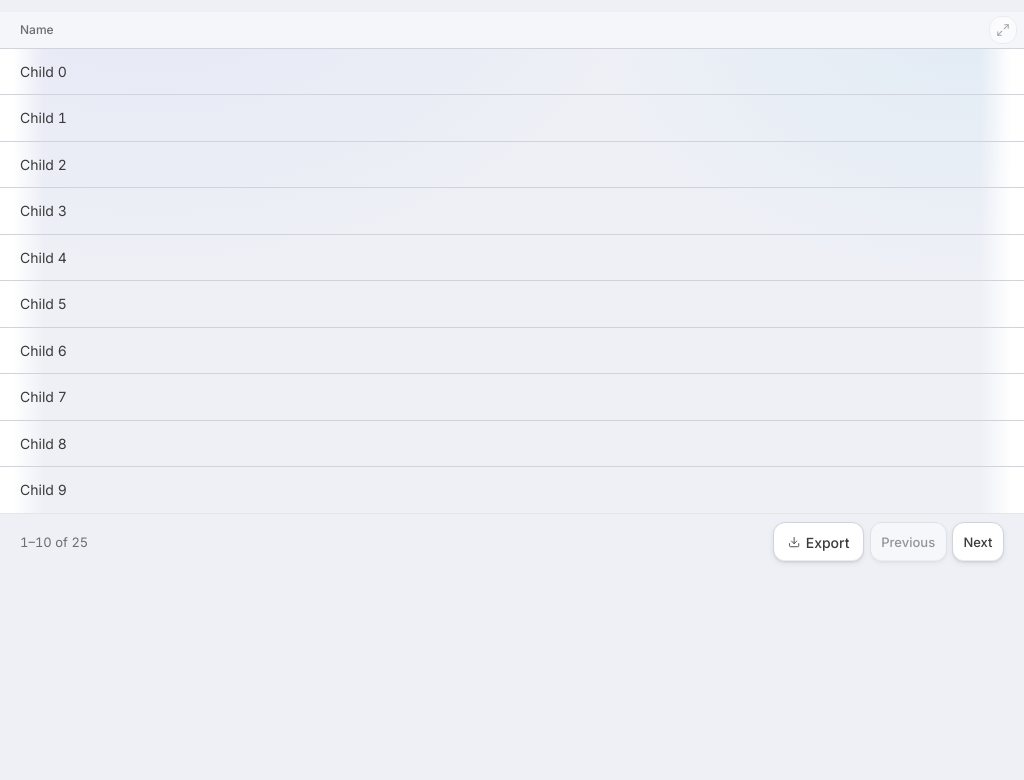
Scenario: a table given no paging props › pages what it holds and stops there, exactly as before
Expected: the button "Previous" is disabled, [870,522,947,562]
Click the button "Next" at (978, 542), box [952,522,1004,562]
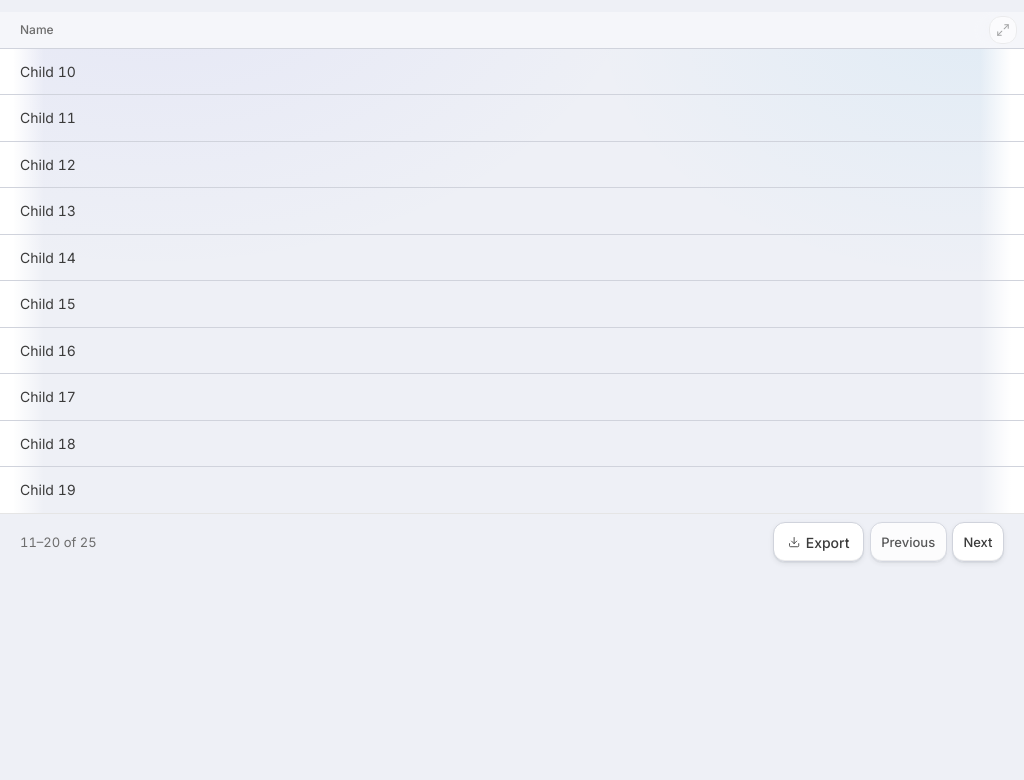
Click the button "Next" at (978, 542), box [952,522,1004,562]
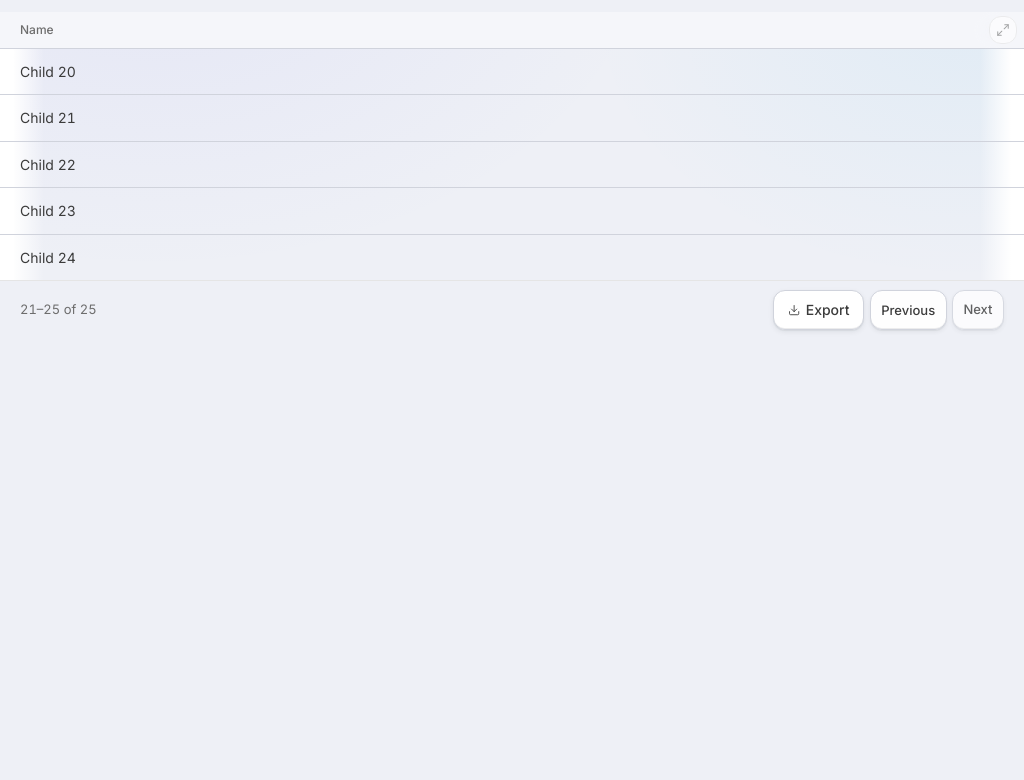
Expected: the text with class "tabular-nums" reads "21–25 of 25", [20,300,97,320]
Expected: the button "Next" is disabled, [952,290,1004,330]
